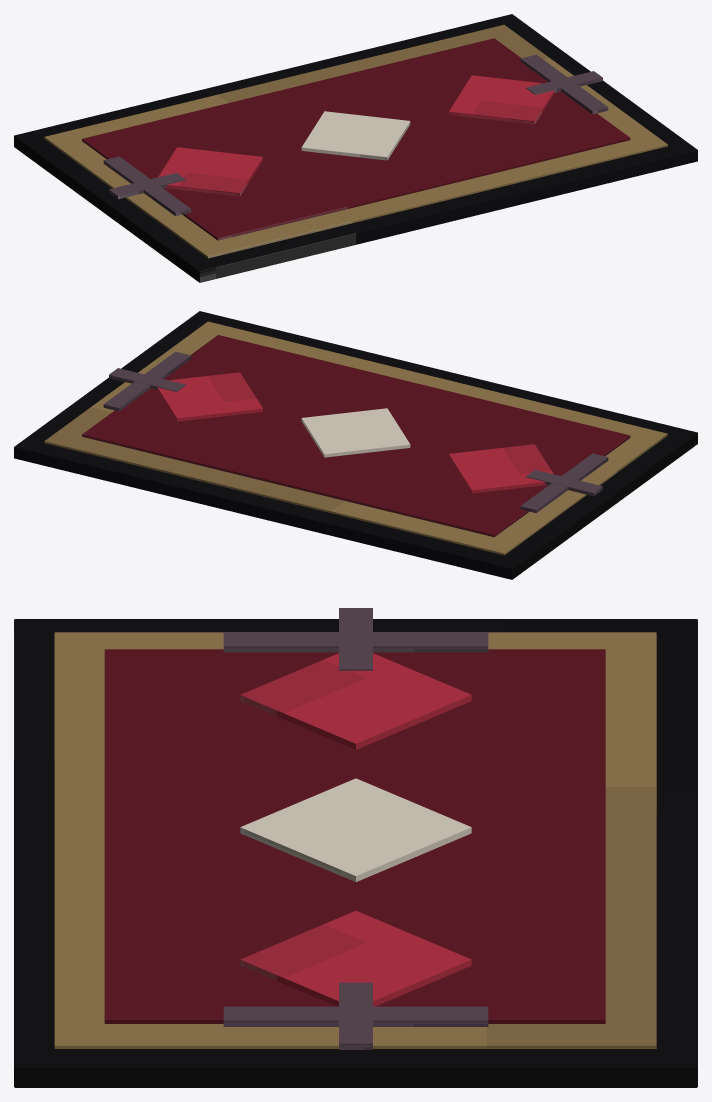
Rendered from gothic_bedroom_rug_crimson.glb.
3 renders of one model, top to bottom at view 1: azimuth 30°, elevation 25°; view 2: azimuth 150°, elevation 25°; view 3: azimuth 270°, elevation 25°, orthographic. The views are drawn at different scales.
Visible parts, largest first — view 1: RugField, RugBase, RugBorder, GothicDiamond0.0, GothicDiamond0.65, GothicDiamond-0.65, RugCrossV0.92, RugCrossV-0.92, RugCrossH-0.92, RugCrossH0.92; view 2: RugField, RugBase, RugBorder, GothicDiamond0.0, GothicDiamond0.65, GothicDiamond-0.65, RugCrossV0.92, RugCrossV-0.92, RugCrossH-0.92, RugCrossH0.92; view 3: RugField, RugBase, RugBorder, GothicDiamond0.0, GothicDiamond-0.65, GothicDiamond0.65, RugCrossV0.92, RugCrossV-0.92, RugCrossH0.92, RugCrossH-0.92.
Boxes of the visible parts, x1,y1,x2,y2 form: RugField: (82,38,630,240); RugBase: (14,14,697,282); RugBorder: (44,24,667,258); GothicDiamond0.0: (301,111,410,160); GothicDiamond0.65: (449,75,554,124); GothicDiamond-0.65: (158,147,262,196); RugCrossV0.92: (520,54,608,114); RugCrossV-0.92: (103,156,191,216); RugCrossH-0.92: (109,173,185,199); RugCrossH0.92: (526,71,602,94); RugField: (82,335,630,537); RugBase: (14,311,697,579); RugBorder: (44,321,667,555); GothicDiamond0.0: (301,408,410,457); GothicDiamond0.65: (157,372,262,421); GothicDiamond-0.65: (449,444,553,493); RugCrossV0.92: (103,351,191,411); RugCrossV-0.92: (520,453,608,513); RugCrossH-0.92: (526,470,602,496); RugCrossH0.92: (109,368,185,391); RugField: (104,649,605,1023); RugBase: (14,619,697,1087); RugBorder: (54,632,656,1048); GothicDiamond0.0: (240,778,471,881); GothicDiamond-0.65: (240,653,471,749); GothicDiamond0.65: (240,911,471,1006); RugCrossV0.92: (223,1006,488,1026); RugCrossV-0.92: (223,632,488,652); RugCrossH0.92: (339,982,372,1049); RugCrossH-0.92: (339,608,372,670).
Size of the model in its own units: 2.2 by 0.088 by 1.42.
Materials: 1 (1 with a texture image).
